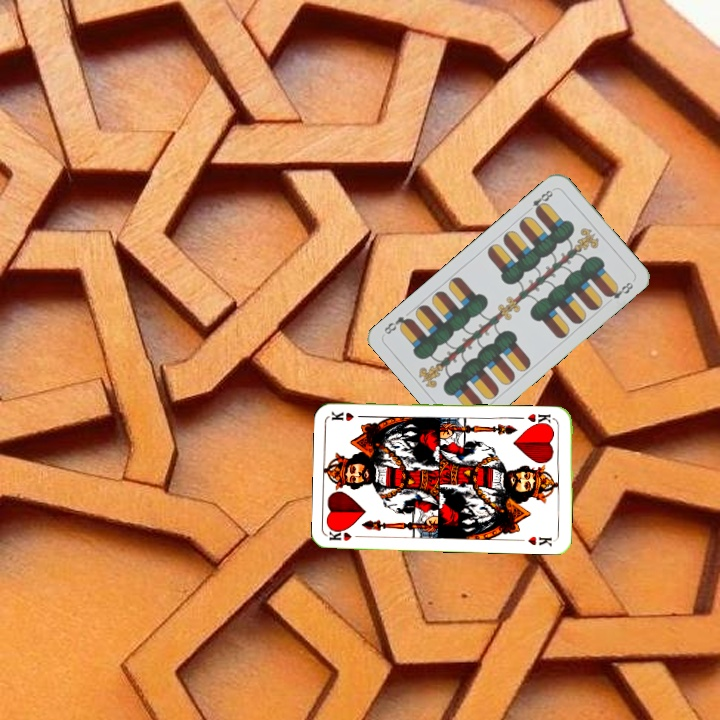E8: (523, 185, 557, 216)
HK: (326, 525, 367, 543), (524, 409, 553, 429)
